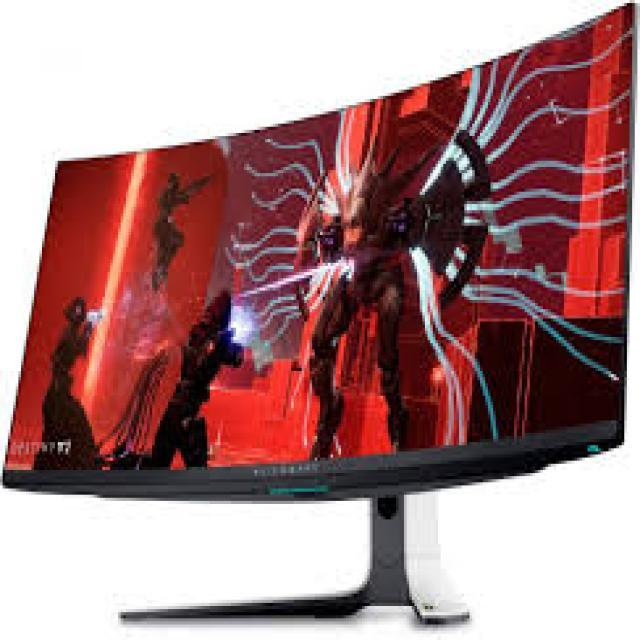monitor: (18, 84, 640, 632)
